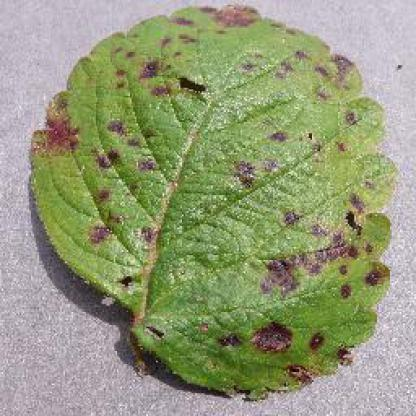leaf scorch: (26, 2, 405, 410)
